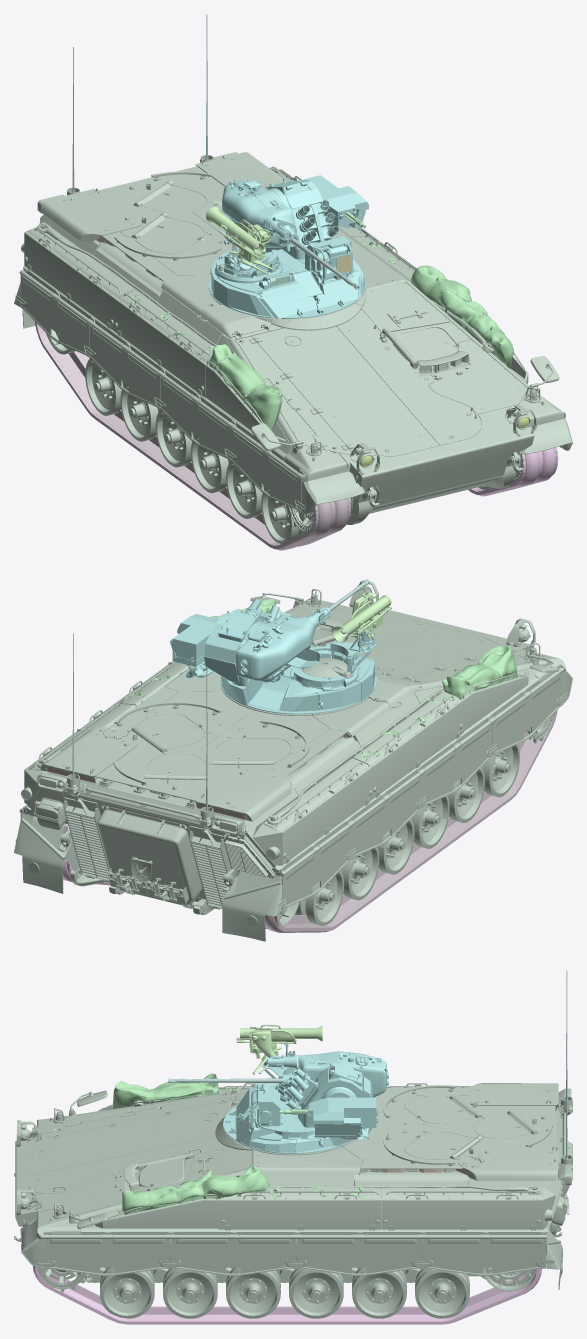
Rendered from marder_1a3_hq.glb.
3 renders of one model, top to bottom at view 1: azimuth 30°, elevation 25°; view 2: azimuth 150°, elevation 25°; view 3: azimuth 270°, elevation 25°, orthographic. The views are drawn at different scales.
Visible parts, largest first — view 1: root.001_marder_1a3_body_c_0, hatch_01, track_r, ex_armor_l_02, ex_armor_r_04, root.006_marder_1a3_body_c_0, ex_armor_r_06, root.005_marder_1a3_body_c_0, root.003_marder_1a3_body_c_0, root.008_marder_1a3_body_c_0, ex_armor_02, ex_armor_r_01 (+32 smaller); view 2: hatch_09, root_marder_1a3_body_c_0, root.006_marder_1a3_body_c_0, root.005_marder_1a3_body_c_0, root.009_marder_1a3_body_c_0, ex_armor_r_04, hatch_01, ex_armor_r_06, root.001_marder_1a3_body_c_0, root.008_marder_1a3_body_c_0, track_r, ex_armor_02 (+40 smaller); view 3: root.001_marder_1a3_body_c_0, hatch_01, ex_armor_l_06, ex_armor_l_04, track_l, root.005_marder_1a3_body_c_0, root.006_marder_1a3_body_c_0, ex_armor_l_02, ex_armor_l_01, ex_armor_l_03, ex_armor_l_05, ex_armor_l_07 (+37 smaller).
Boxes of the visible parts, x1=… form: root.001_marder_1a3_body_c_0: x1=23, y1=266, x2=565, y2=524; hatch_01: x1=251, y1=303, x2=481, y2=456; track_r: x1=34, y1=321, x2=350, y2=550; ex_armor_l_02: x1=209, y1=265, x2=513, y2=430; ex_armor_r_04: x1=114, y1=290, x2=215, y2=397; root.006_marder_1a3_body_c_0: x1=93, y1=212, x2=346, y2=351; ex_armor_r_06: x1=24, y1=227, x2=139, y2=331; root.005_marder_1a3_body_c_0: x1=147, y1=202, x2=406, y2=377; root.003_marder_1a3_body_c_0: x1=227, y1=281, x2=494, y2=428; root.008_marder_1a3_body_c_0: x1=39, y1=166, x2=224, y2=259; ex_armor_02: x1=40, y1=188, x2=140, y2=241; ex_armor_r_01: x1=225, y1=426, x2=305, y2=512; hatch_09: x1=97, y1=805, x2=205, y2=908; root_marder_1a3_body_c_0: x1=24, y1=773, x2=276, y2=891; root.006_marder_1a3_body_c_0: x1=108, y1=685, x2=390, y2=801; root.005_marder_1a3_body_c_0: x1=145, y1=666, x2=425, y2=775; root.009_marder_1a3_body_c_0: x1=19, y1=750, x2=291, y2=914; ex_armor_r_04: x1=348, y1=691, x2=463, y2=798; hatch_01: x1=314, y1=617, x2=500, y2=679; ex_armor_r_06: x1=258, y1=758, x2=372, y2=864; root.001_marder_1a3_body_c_0: x1=24, y1=598, x2=565, y2=877; root.008_marder_1a3_body_c_0: x1=70, y1=722, x2=303, y2=901; track_r: x1=265, y1=710, x2=557, y2=932; ex_armor_02: x1=195, y1=766, x2=291, y2=821; root.001_marder_1a3_body_c_0: x1=14, y1=1091, x2=547, y2=1282; hatch_01: x1=31, y1=1099, x2=232, y2=1194; ex_armor_l_06: x1=381, y1=1186, x2=543, y2=1230; ex_armor_l_04: x1=218, y1=1186, x2=381, y2=1230; track_l: x1=33, y1=1239, x2=541, y2=1324; root.005_marder_1a3_body_c_0: x1=247, y1=1128, x2=484, y2=1282; root.006_marder_1a3_body_c_0: x1=348, y1=1085, x2=483, y2=1268; ex_armor_l_02: x1=113, y1=1073, x2=269, y2=1214; ex_armor_l_01: x1=36, y1=1234, x2=178, y2=1275; ex_armor_l_03: x1=170, y1=1234, x2=304, y2=1275; ex_armor_l_05: x1=296, y1=1234, x2=430, y2=1275; ex_armor_l_07: x1=422, y1=1232, x2=554, y2=1275.
Size of the model in its own units: 151 by 150 by 277.
